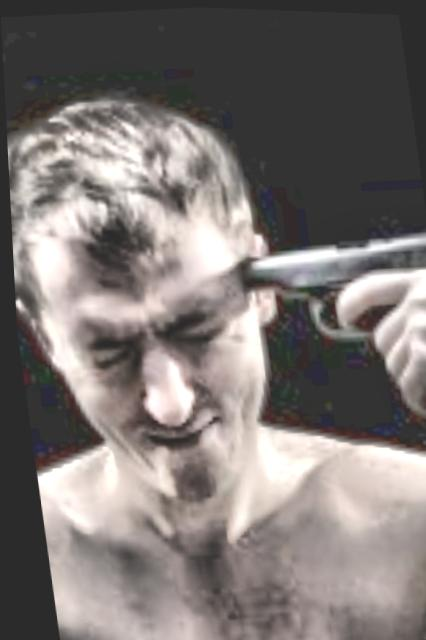pistol: (219, 224, 426, 437)
